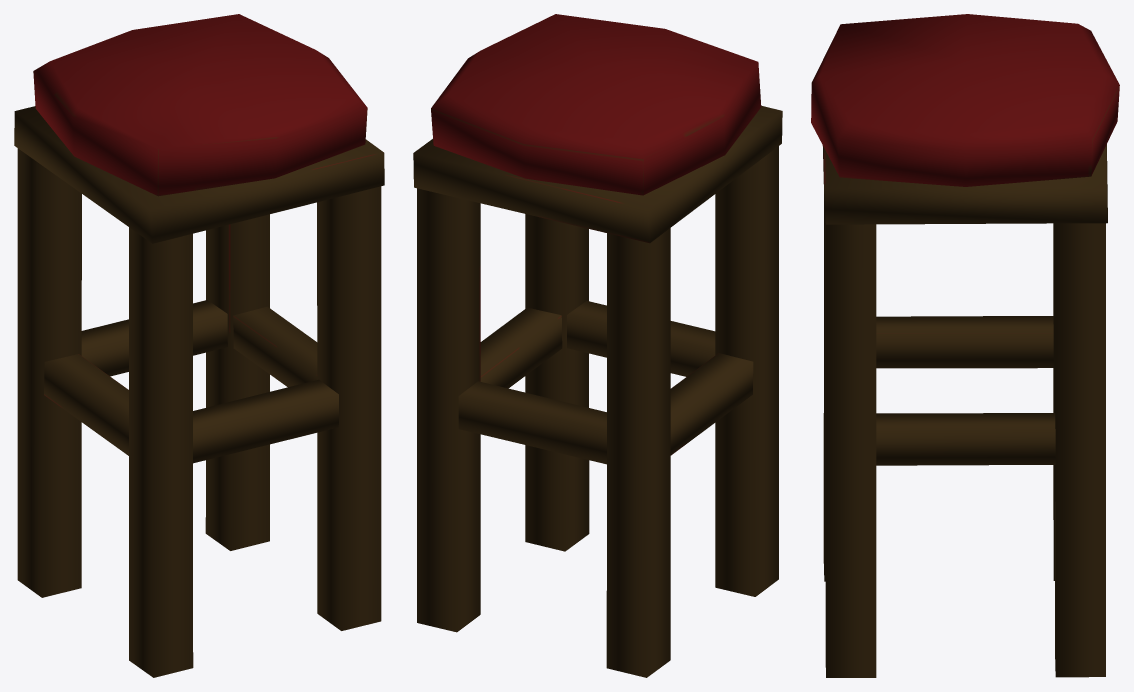
The model's file is bar_stool.glb.
3 views of the same model, side by side, from view 1: azimuth 30°, elevation 25°; view 2: azimuth 150°, elevation 25°; view 3: azimuth 270°, elevation 25° (orthographic). The views are drawn at different scales.
Parts seen in each view (by area): view 1: barbuilding-col.134; view 2: barbuilding-col.134; view 3: barbuilding-col.134.
Part boxes in pixels (box(x1,y1,x2,y2)): barbuilding-col.134: box(14, 14, 384, 677); barbuilding-col.134: box(413, 14, 782, 677); barbuilding-col.134: box(811, 14, 1119, 677).
Bounding box in the file's own units: 0.4831 × 0.9639 × 0.4832.
1 material, 1 textured.
